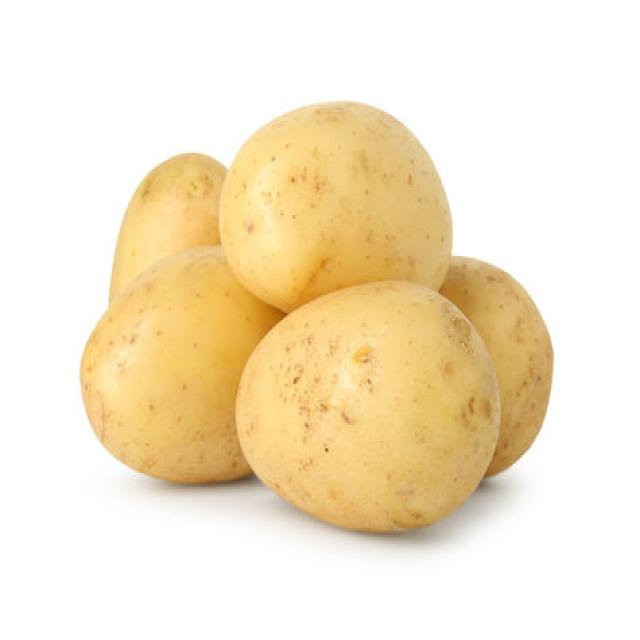Potato: (234, 277, 500, 534), (217, 98, 453, 313), (78, 244, 284, 484), (438, 253, 554, 477), (108, 149, 228, 306)
